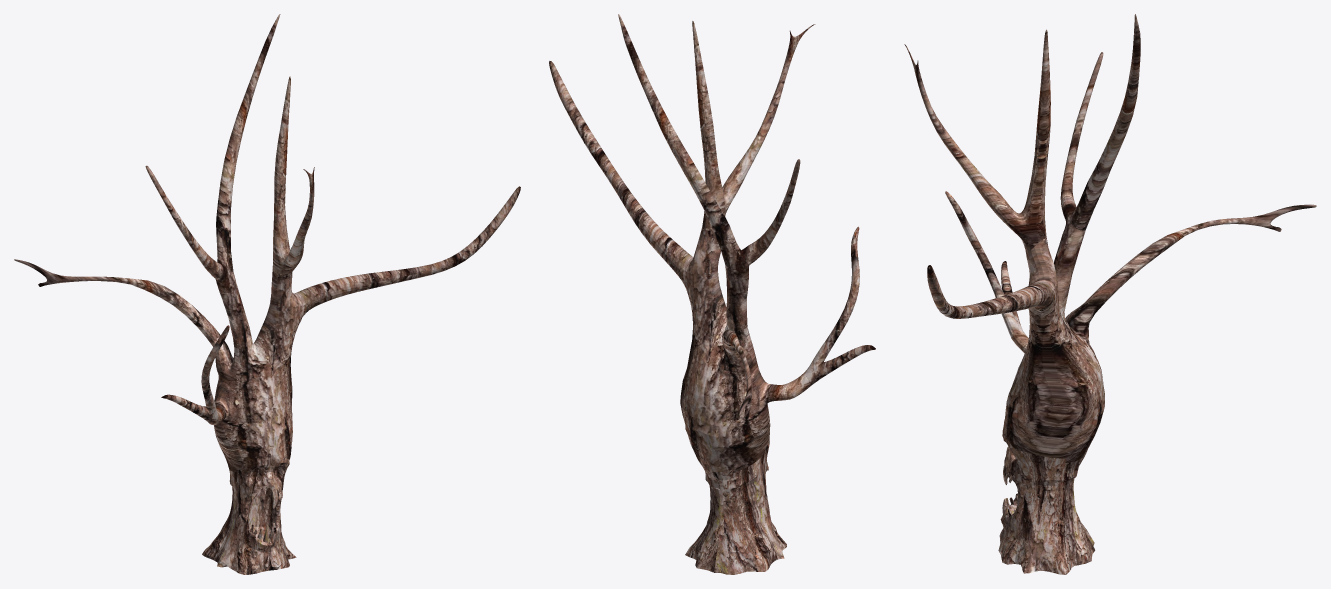
The model's file is FBX_Tree2.fbx.
3 renders of one model, left to right at view 1: azimuth 30°, elevation 25°; view 2: azimuth 150°, elevation 25°; view 3: azimuth 270°, elevation 25°, orthographic. The views are drawn at different scales.
Parts seen in each view (by area): view 1: tree1; view 2: tree1; view 3: tree1.
Part boxes in pixels (bbox=[...]): tree1: bbox=[14, 14, 520, 574]; tree1: bbox=[549, 14, 875, 574]; tree1: bbox=[904, 14, 1316, 574].
Bounding box in the file's own units: 1487 × 2098 × 1358.
